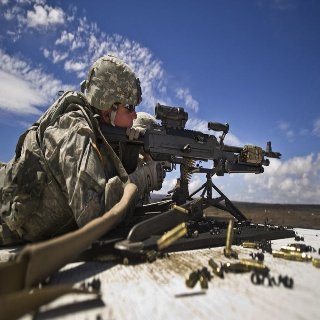rifle: (92, 102, 286, 198)
